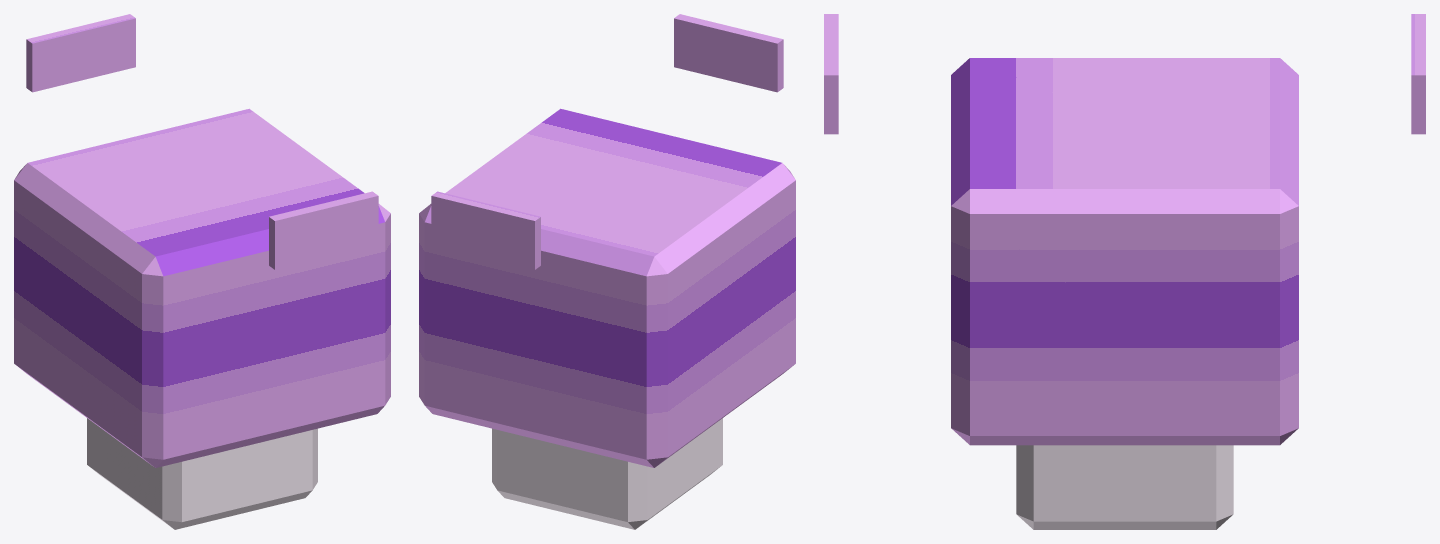
File: uv_pendant_emission.obj
3 views of the same model, side by side, from view 1: azimuth 30°, elevation 25°; view 2: azimuth 150°, elevation 25°; view 3: azimuth 270°, elevation 25° (orthographic). The views are drawn at different scales.
Visible parts, largest first — view 1: model; view 2: model; view 3: model.
Boxes of the visible parts, x1=… form: model: x1=14, y1=14, x2=390, y2=529; model: x1=419, y1=14, x2=795, y2=529; model: x1=824, y1=14, x2=1425, y2=529.
Bounding box in the file's own units: 0.3 × 0.425 × 0.5187.
